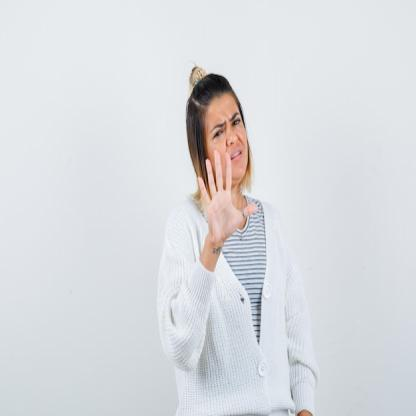stop: (194, 144, 259, 244)
